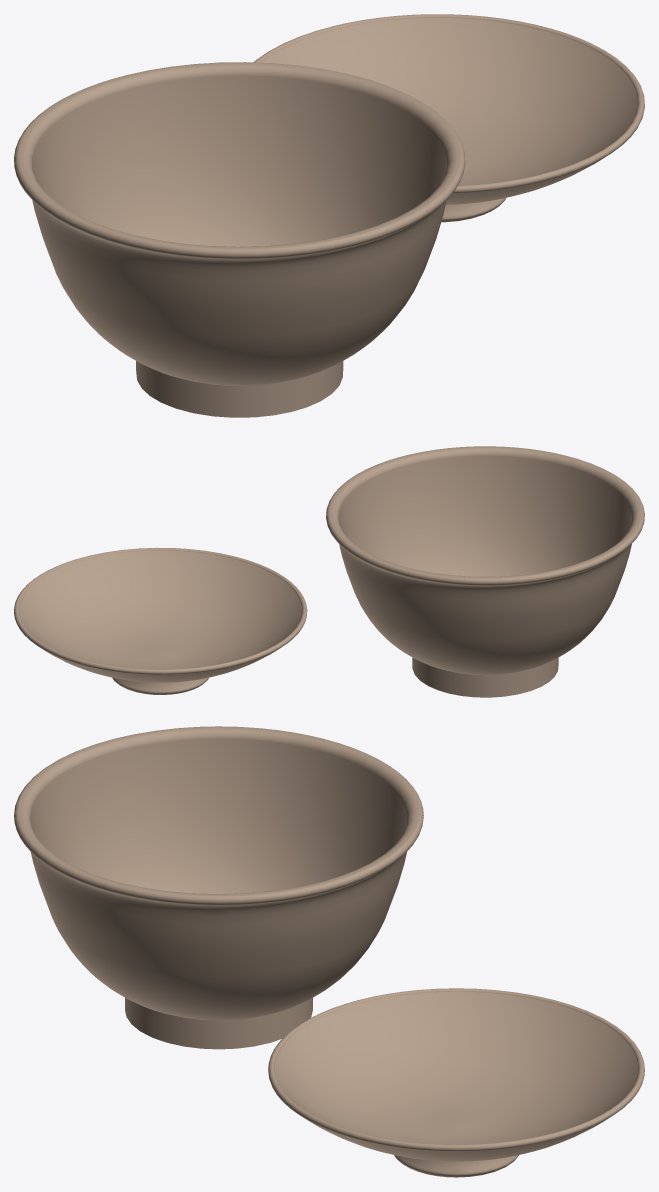
File: 333_どんぶり開.glb
The picture shows the model from 3 angles, top to bottom: view 1: azimuth 30°, elevation 25°; view 2: azimuth 150°, elevation 25°; view 3: azimuth 270°, elevation 25°; orthographic projection. The views are drawn at different scales.
Parts seen in each view (by area): view 1: Body1.001, 蓋.001; view 2: Body1.001, 蓋.001; view 3: Body1.001, 蓋.001.
Part boxes in pixels (x1,y1,x2,y2): Body1.001: (14, 62, 465, 417); 蓋.001: (254, 14, 644, 222); Body1.001: (326, 446, 644, 697); 蓋.001: (14, 547, 307, 694); Body1.001: (14, 726, 423, 1049); 蓋.001: (268, 988, 644, 1177).
Size of the model in its own units: 0.3013 by 0.0893 by 0.2576.
